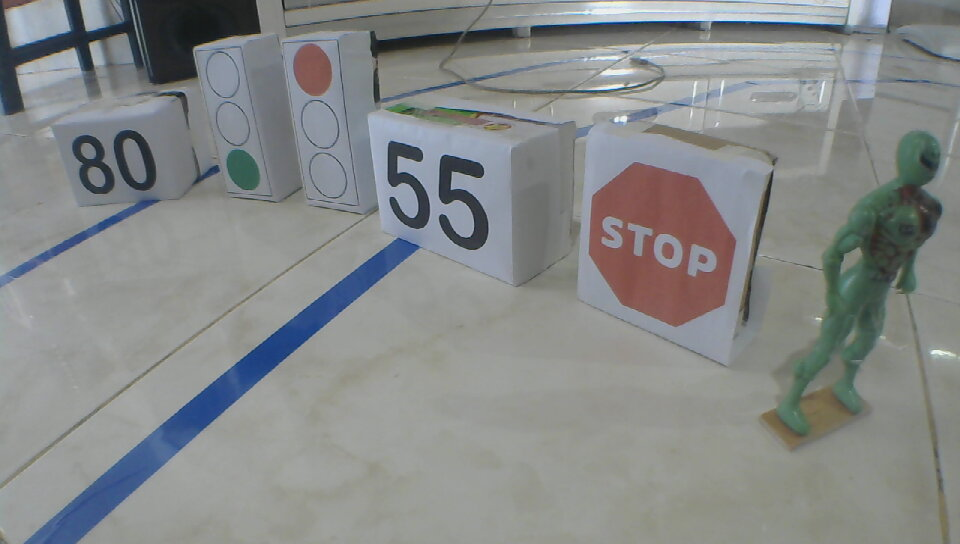Green Light: (201, 48, 263, 192)
Person: (774, 127, 944, 439)
Red Light: (291, 43, 347, 201)
Speed 55: (383, 138, 492, 254)
Speed 80: (72, 127, 160, 197)
Stop: (585, 162, 738, 333)
